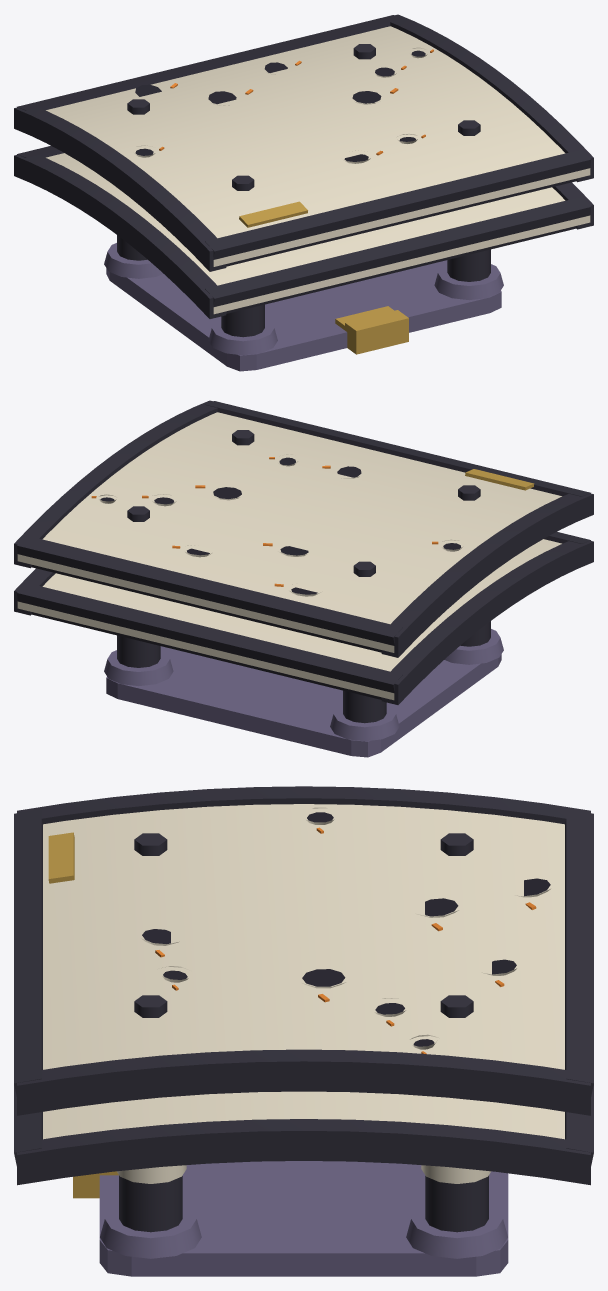
Rendered from micrometeoroid_shield.glb.
The picture shows the model from 3 angles, top to bottom: view 1: azimuth 30°, elevation 25°; view 2: azimuth 150°, elevation 25°; view 3: azimuth 270°, elevation 25°; orthographic projection. The views are drawn at different scales.
Visible parts, largest first — view 1: whipple_CreamHull, whipple_Graphite, whipple_PurpleGrey, whipple_Gold, whipple_DecalDark; view 2: whipple_CreamHull, whipple_Graphite, whipple_PurpleGrey, whipple_DecalDark, whipple_Gold; view 3: whipple_CreamHull, whipple_Graphite, whipple_PurpleGrey, whipple_DecalDark, whipple_Gold.
Boxes of the visible parts, bbox=[...] form: whipple_CreamHull: bbox=[46, 26, 590, 314]; whipple_Graphite: bbox=[14, 14, 593, 337]; whipple_PurpleGrey: bbox=[104, 243, 503, 371]; whipple_Gold: bbox=[239, 201, 408, 354]; whipple_DecalDark: bbox=[135, 50, 425, 161]; whipple_CreamHull: bbox=[17, 412, 561, 700]; whipple_Graphite: bbox=[14, 400, 593, 723]; whipple_PurpleGrey: bbox=[104, 629, 503, 757]; whipple_DecalDark: bbox=[100, 457, 461, 594]; whipple_Gold: bbox=[465, 469, 534, 490]; whipple_CreamHull: bbox=[43, 804, 564, 1183]; whipple_Graphite: bbox=[14, 786, 593, 1232]; whipple_PurpleGrey: bbox=[99, 1161, 508, 1276]; whipple_DecalDark: bbox=[142, 812, 550, 1046]; whipple_Gold: bbox=[48, 832, 118, 1198].
Bounding box in the file's own units: 0.51 × 0.224 × 0.4545.
